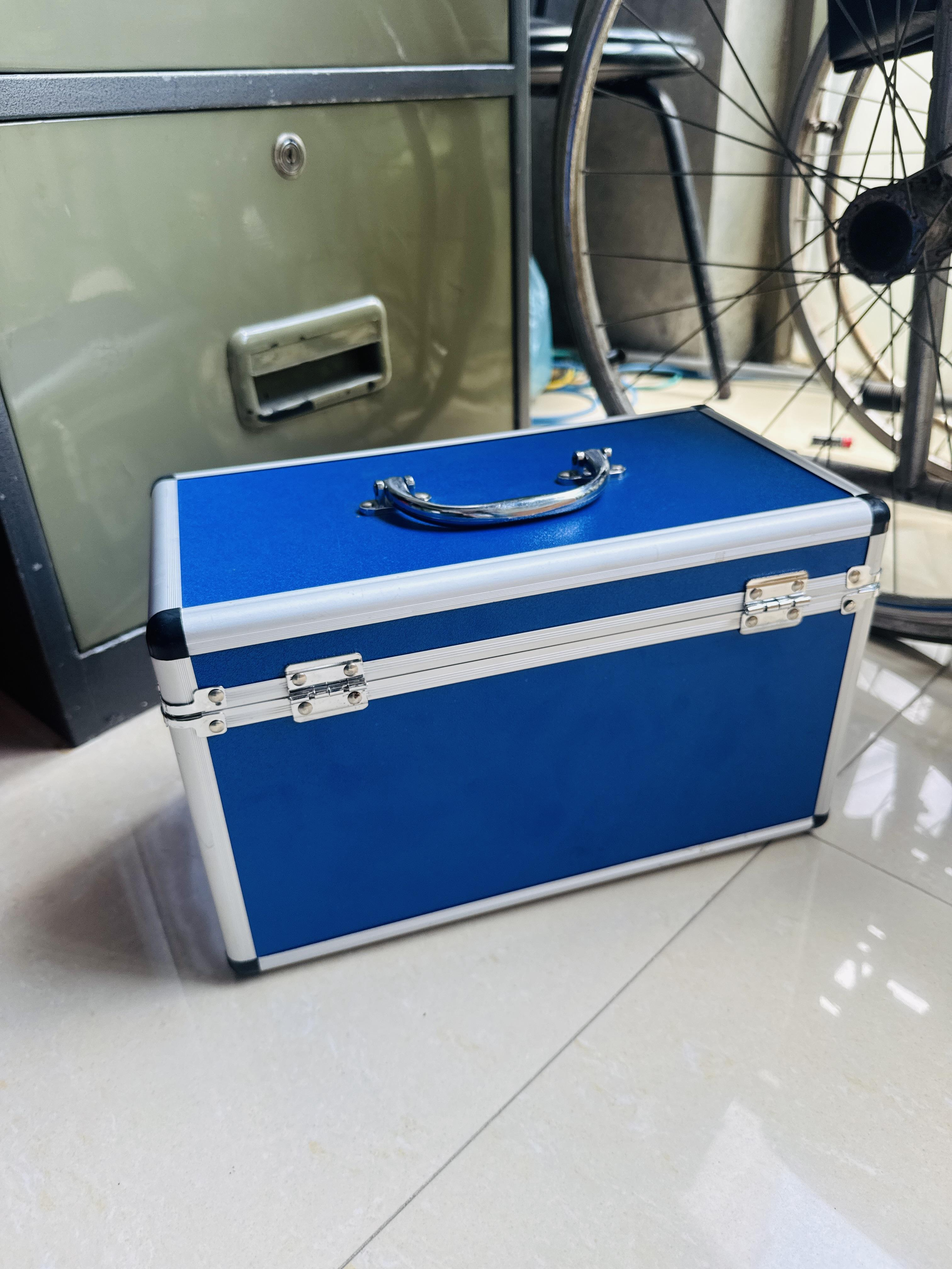FirstAidBox: (104, 387, 908, 1012)
